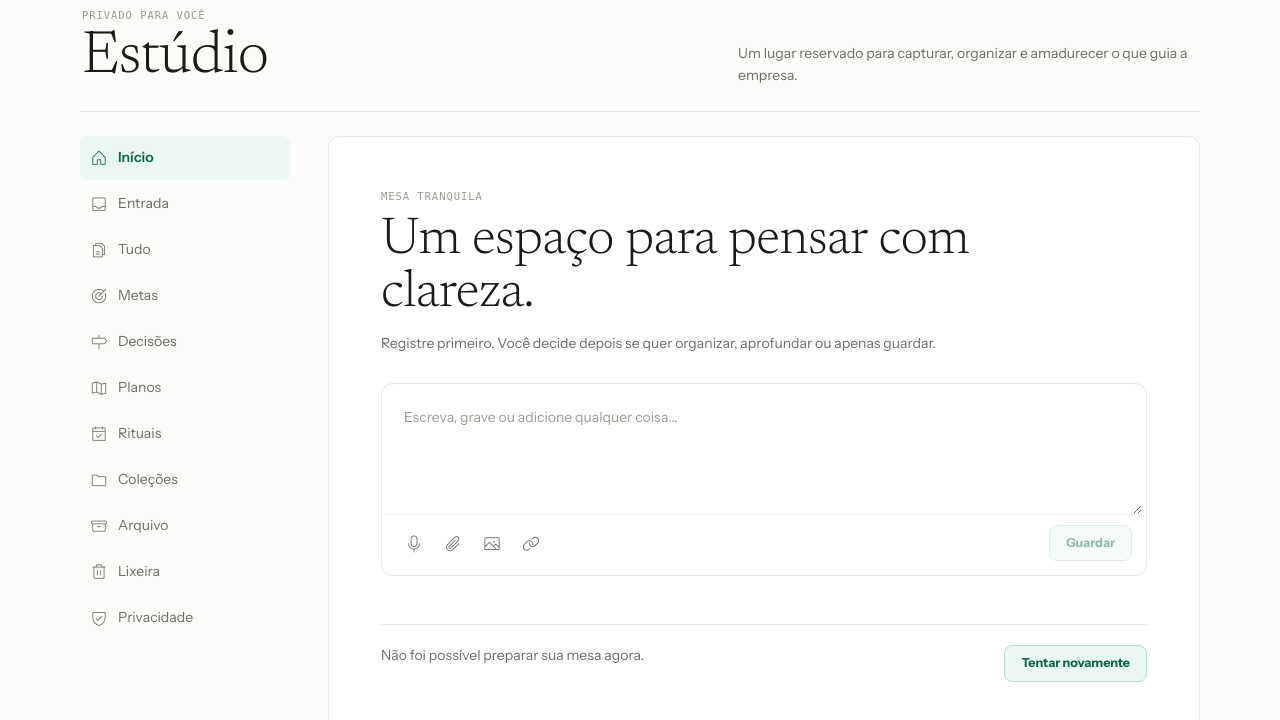
Owner Studio accessibility and adaptive quiet ops › exposes the strategic library as a named region and a semantic list
This screenshot has width=1280, height=720.
Click the button "Metas" at (185, 296), box [80,274,290,318]
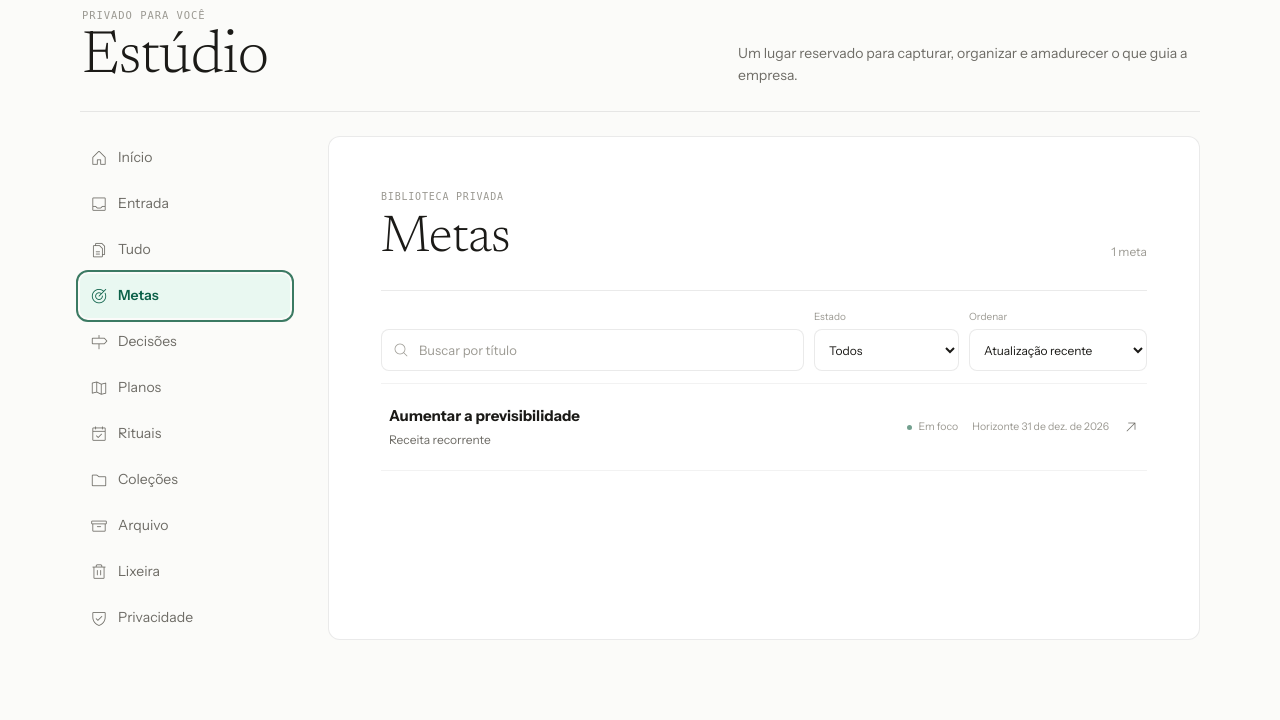
Check: the list item "Aumentar a previsibilidade" is shown, box [381,383,1147,471]
Check: the button with aria-label "Abrir Aumentar a previsibilidade" is shown, box [381,384,1147,470]
Check: the search field named "Buscar metas por título" is shown, box [417,340,792,361]
